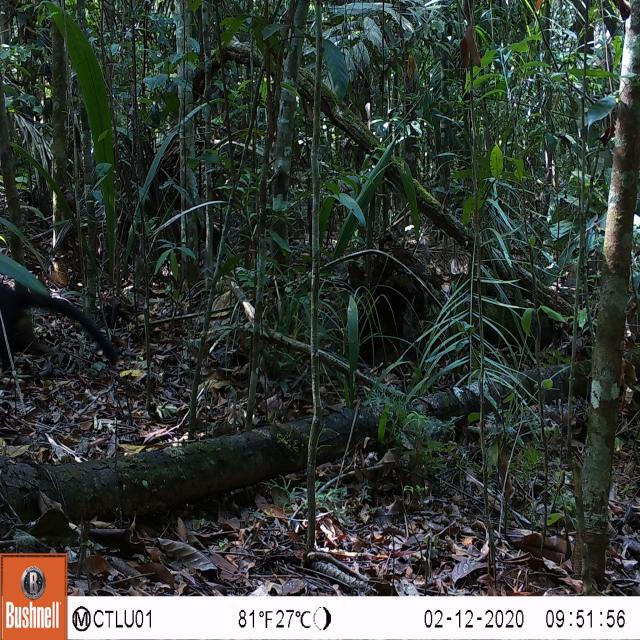Tayra: (0, 237, 119, 382)
